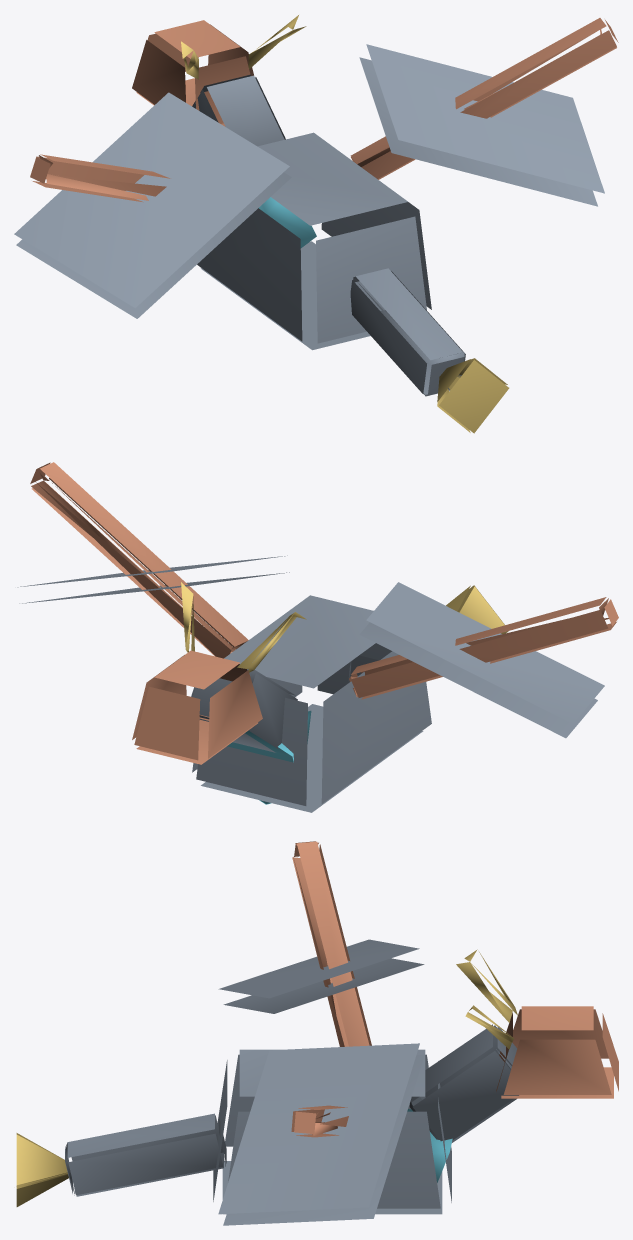
File: glyph_drake_lod2.glb
3 views of the same model, one above another, from view 1: azimuth 30°, elevation 25°; view 2: azimuth 150°, elevation 25°; view 3: azimuth 270°, elevation 25° (orthographic).
Parts seen in each view (by area): view 1: glyph_drake.001; view 2: glyph_drake.001; view 3: glyph_drake.001.
Part boxes in pixels (left/top/right/bottom): glyph_drake.001: left=14, top=15, right=618, bottom=433; glyph_drake.001: left=17, top=462, right=618, bottom=812; glyph_drake.001: left=16, top=841, right=618, bottom=1225.
Size of the model in its own units: 2.41 by 0.9281 by 2.2.
